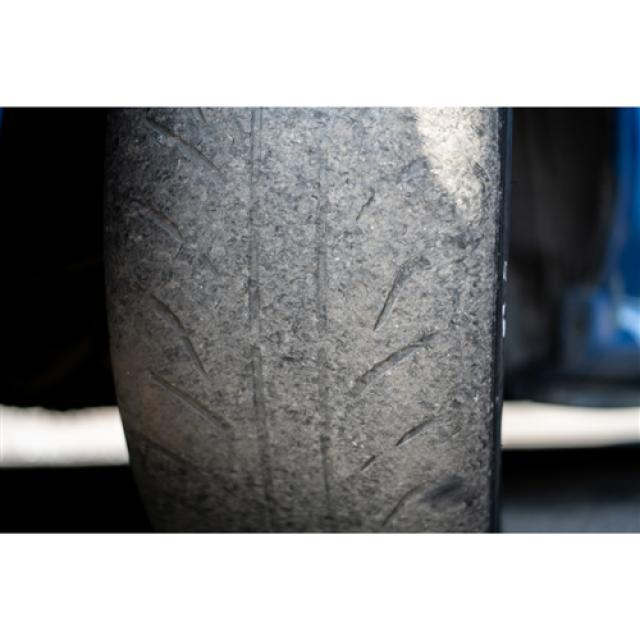Flat spots: (147, 106, 473, 536)
